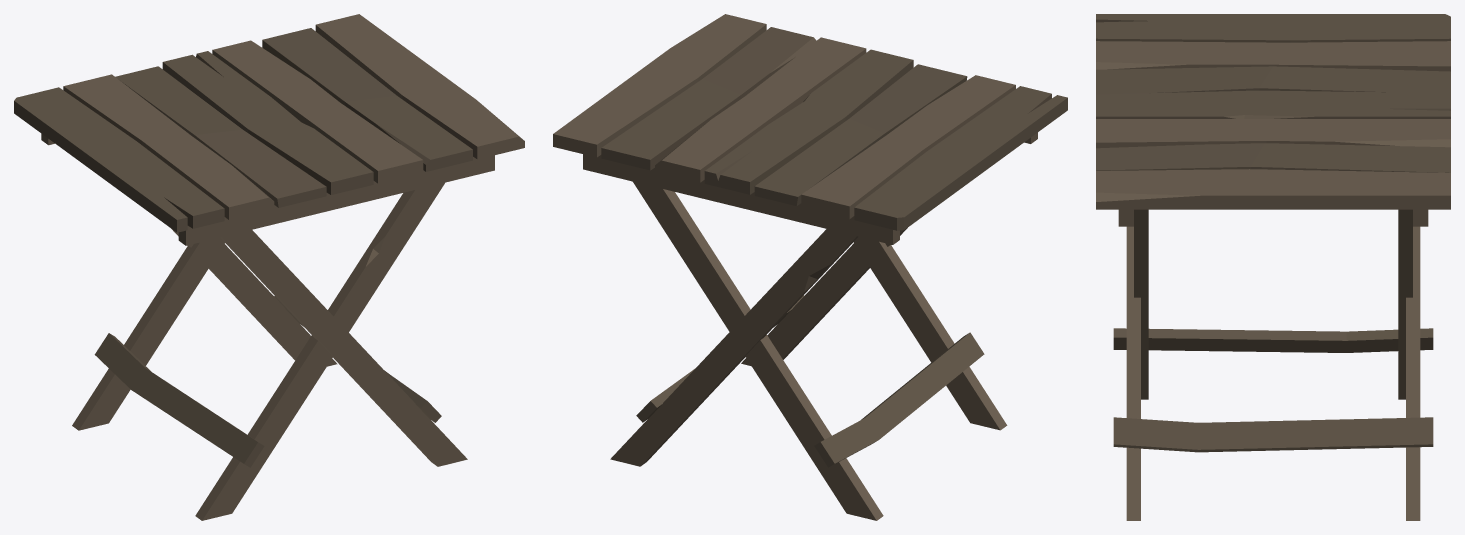
The model's file is SM_Props_City_Beach_Table_02.fbx.
The picture shows the model from 3 angles, left to right: view 1: azimuth 30°, elevation 25°; view 2: azimuth 150°, elevation 25°; view 3: azimuth 270°, elevation 25°; orthographic projection. The views are drawn at different scales.
Parts seen in each view (by area): view 1: SM_Props_City_Beach_Table_02; view 2: SM_Props_City_Beach_Table_02; view 3: SM_Props_City_Beach_Table_02.
Part boxes in pixels (x1,y1,x2,y2): SM_Props_City_Beach_Table_02: [14, 14, 524, 520]; SM_Props_City_Beach_Table_02: [553, 14, 1067, 520]; SM_Props_City_Beach_Table_02: [1096, 14, 1450, 520].
Bounding box in the file's own units: 114 × 102 × 94.
